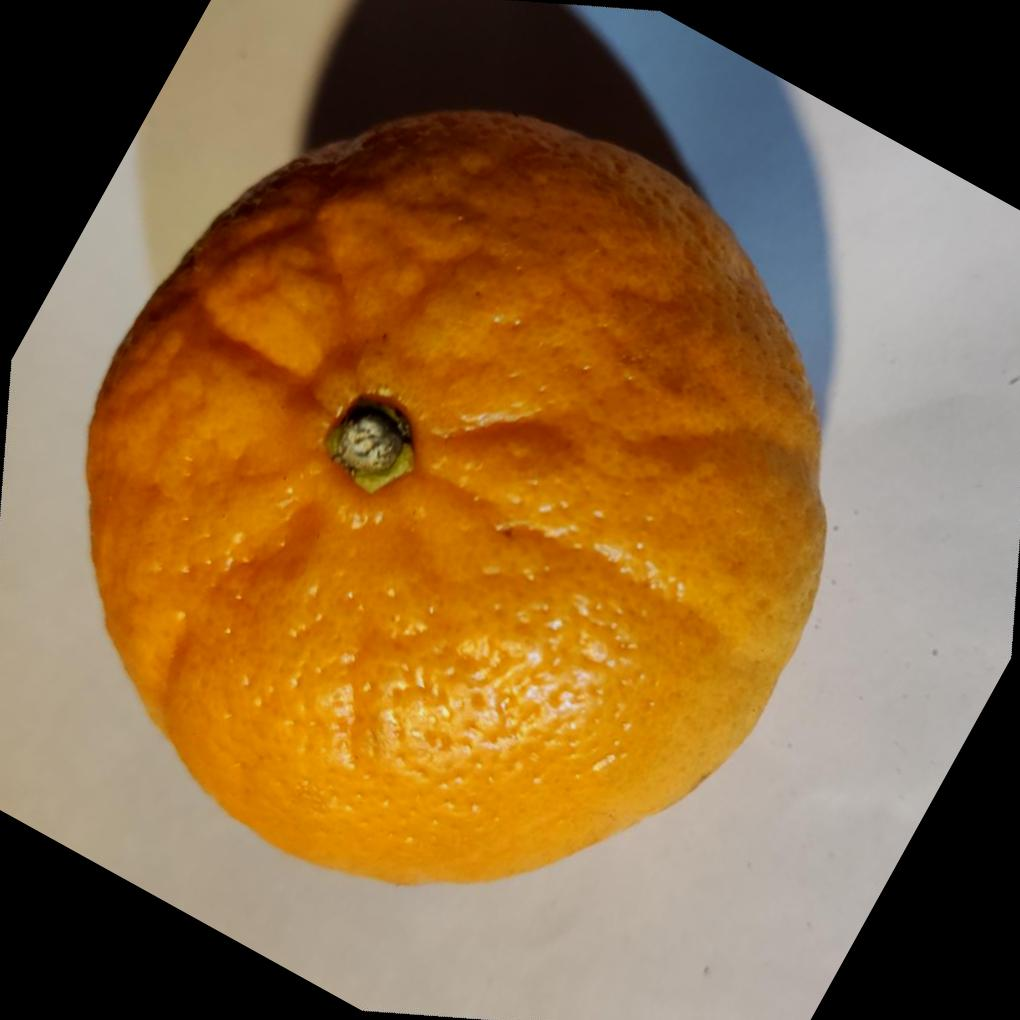FreshGuava: (84, 103, 830, 885)
